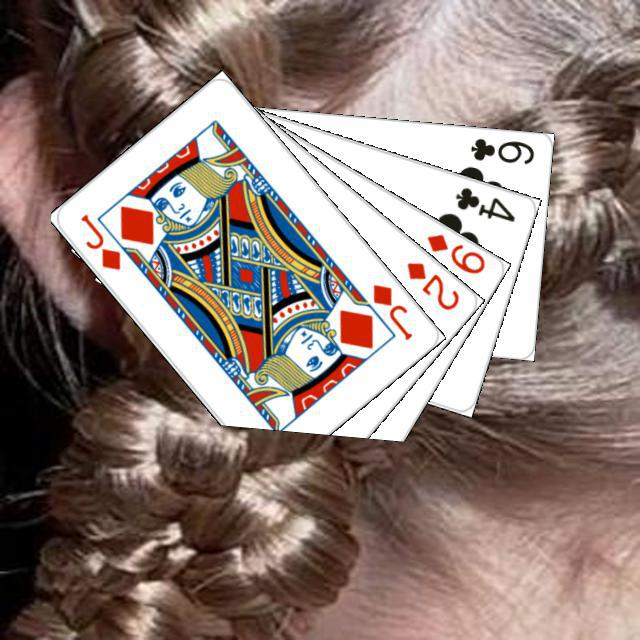2d: (401, 256, 461, 313)
4c: (450, 182, 517, 224)
6c: (465, 133, 536, 166)
9d: (421, 228, 487, 276)
Jd: (75, 208, 123, 273), (367, 278, 414, 343)
